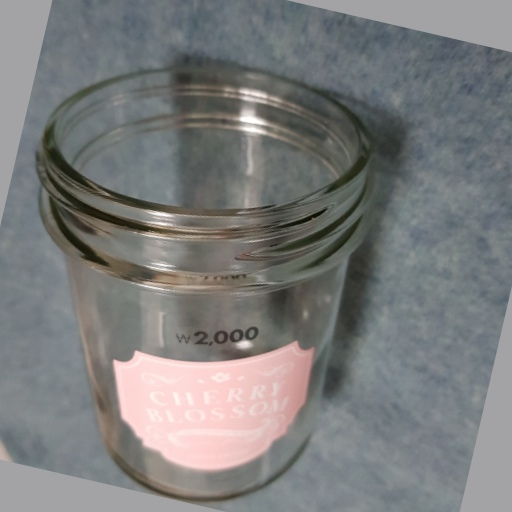Glass_5: (34, 67, 372, 498)
